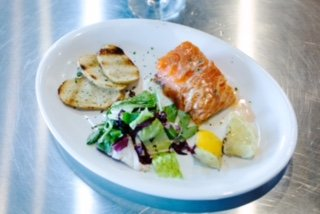sushi: (35, 14, 306, 209)
